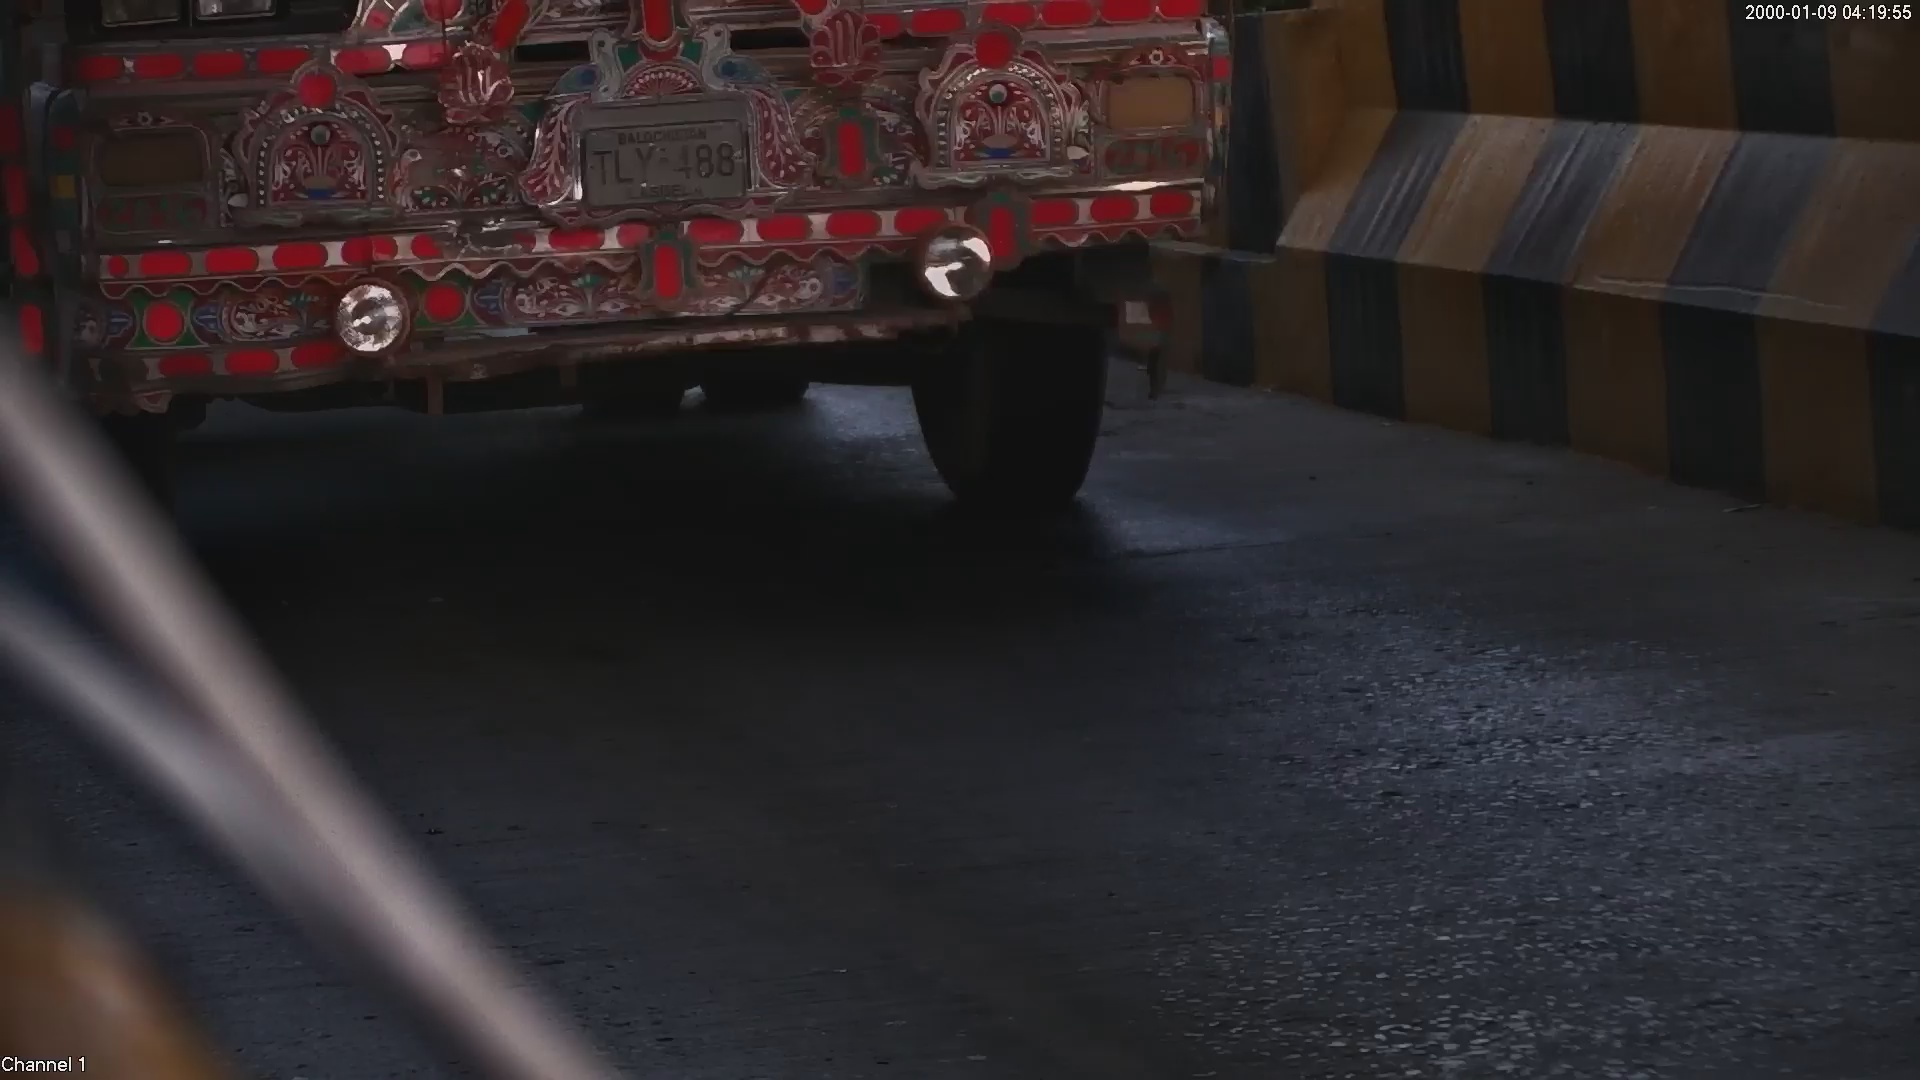Number_Plate: (552, 83, 771, 225)
Undefined: (908, 38, 1213, 192), (78, 96, 389, 240)
